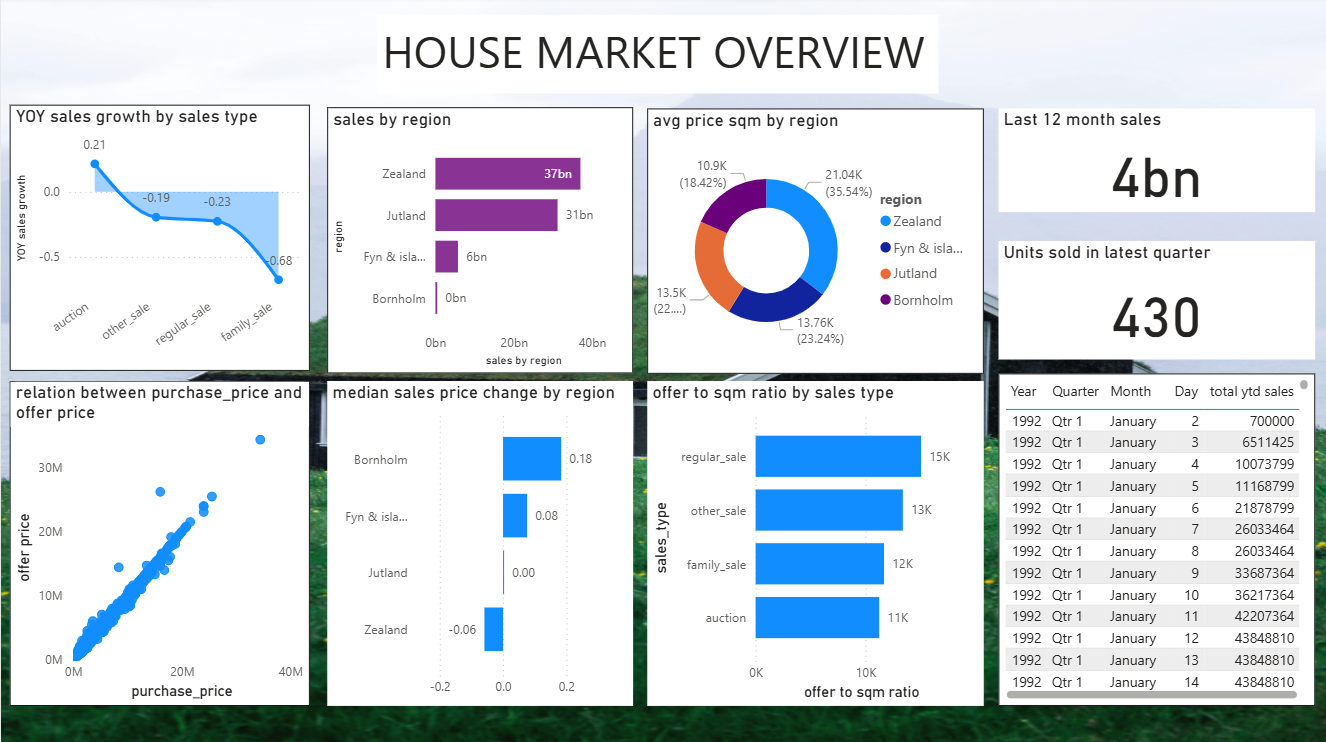

What the dashboard file says about the page in this screenshot:
{"tool":"powerbi","page":{"name":" Page 1","canvas":[1280,720],"ordinal":0},"visuals":[{"type":"textbox","box":[363.2,18.3,541.7,75.8],"z":1000},{"type":"lineChart","title":"YOY sales growth by sales type","fields":{"Y":["Housing Data.YOY sales growth"],"Category":["Housing Data.sales_type"]},"box":[8.4,105,289.5,257],"z":1001},{"type":"scatterChart","title":"relation between purchase_price and offer price","fields":{"X":["Housing Data.purchase_price"],"Y":["Housing Data.offer price"]},"box":[8.4,371.6,289.5,313.7],"z":1002},{"type":"barChart","fields":{"Y":["Housing Data.median sales price change"],"Category":["Housing Data.region"]},"box":[314.9,371.6,295.6,313.7],"z":1003},{"type":"card","title":"Units sold in latest quarter","fields":{"Values":["Housing Data.units sold in latest year and quarter"]},"box":[962.7,236.5,305.2,114.6],"z":1004},{"type":"card","title":"Last 12 month sales","fields":{"Values":["Housing Data.last 12 month sales"]},"box":[962.7,108.6,305.2,100.1],"z":1005},{"type":"barChart","title":"sales  by region","fields":{"Y":["measures Table.sales by region"],"Category":["Housing Data.region"]},"box":[314.9,107.4,295.6,257],"z":1006},{"type":"donutChart","fields":{"Y":["measures Table.avg price sqm"],"Category":["Housing Data.region"]},"box":[623.7,108.6,324.5,255.8],"z":1007},{"type":"barChart","title":"offer to sqm ratio by sales type","fields":{"Y":["Housing Data.offer to sqm ratio"],"Category":["Housing Data.sales_type"]},"box":[623.7,371.6,324.5,313.7],"z":1008},{"type":"tableEx","fields":{"Values":["Housing Data.date.Variation.Date Hierarchy.Year","Housing Data.date.Variation.Date Hierarchy.Quarter","Housing Data.date.Variation.Date Hierarchy.Month","Housing Data.date.Variation.Date Hierarchy.Day","measures Table.total ytd sales"]},"box":[962.7,364.3,305.2,320.9],"z":1009}]}

Visuals, with their boxes in screenshot pixels (x1, y1, x2, y2), scaled from the page's 1280x720 canvas onto the 1326x742 screenshot:
textbox: region(376, 19, 937, 97)
"YOY sales growth by sales type" lineChart: region(9, 108, 309, 373)
"relation between purchase_price and offer price" scatterChart: region(9, 383, 309, 706)
barChart - Housing Data.median sales price change x Housing Data.region: region(326, 383, 632, 706)
"Units sold in latest quarter" card: region(997, 244, 1313, 362)
"Last 12 month sales" card: region(997, 112, 1313, 215)
"sales  by region" barChart: region(326, 111, 632, 376)
donutChart - measures Table.avg price sqm x Housing Data.region: region(646, 112, 982, 376)
"offer to sqm ratio by sales type" barChart: region(646, 383, 982, 706)
tableEx - Housing Data.date.Variation.Date Hierarchy.Year x Housing Data.date.Variation.Date Hierarchy.Quarter: region(997, 375, 1313, 706)
